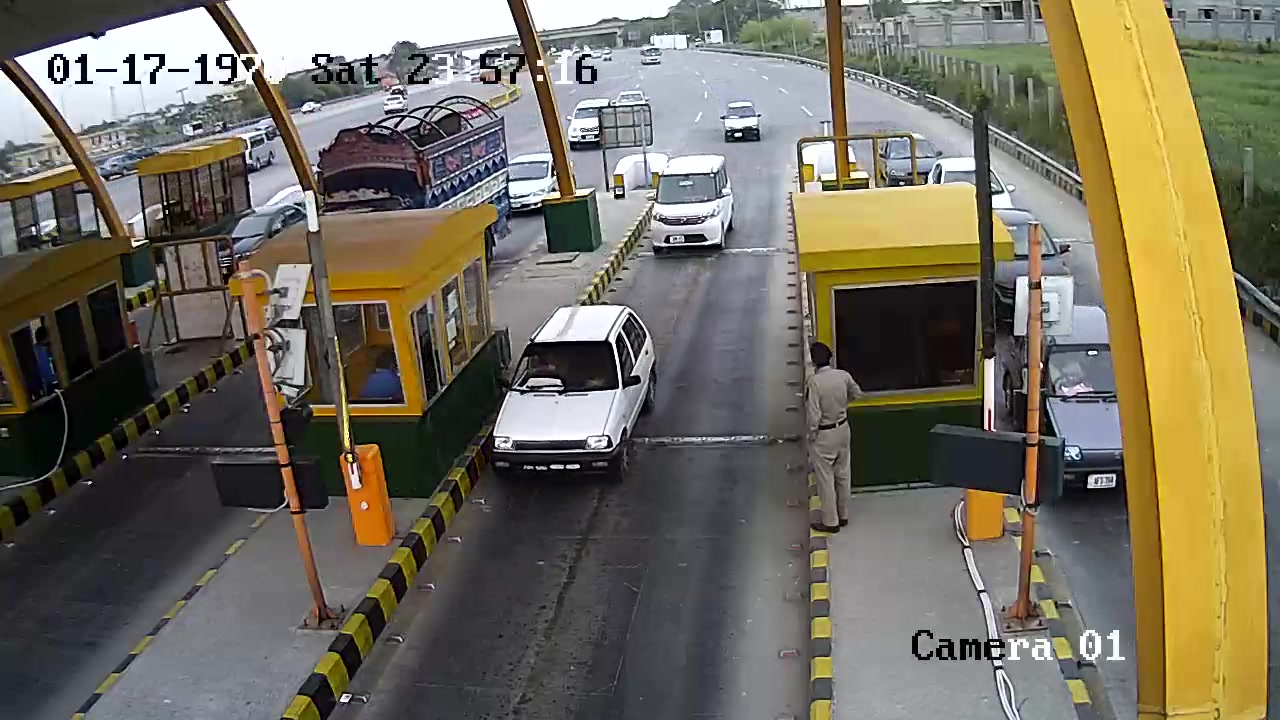F1: (475, 309, 668, 498)
